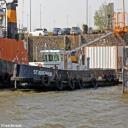tugboat: (11, 44, 121, 95)
